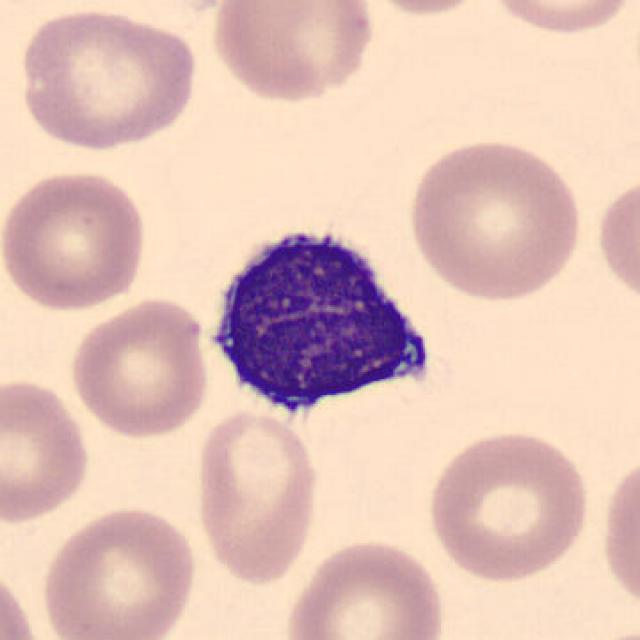Lymphocyte: (196, 208, 448, 430)
RBC: (402, 132, 588, 305), (12, 3, 202, 154), (421, 425, 594, 585), (190, 405, 324, 589), (35, 502, 201, 640), (0, 166, 151, 314), (66, 294, 213, 441), (207, 0, 380, 108), (279, 534, 450, 640), (0, 374, 94, 527), (595, 448, 640, 619), (592, 167, 638, 314), (482, 0, 636, 39), (0, 562, 46, 640), (348, 0, 502, 18), (574, 619, 638, 640)
